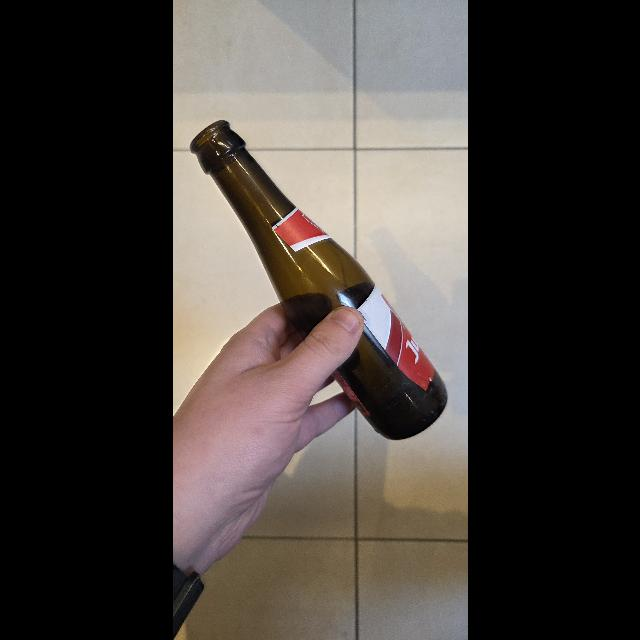Glass: (188, 118, 450, 438)
